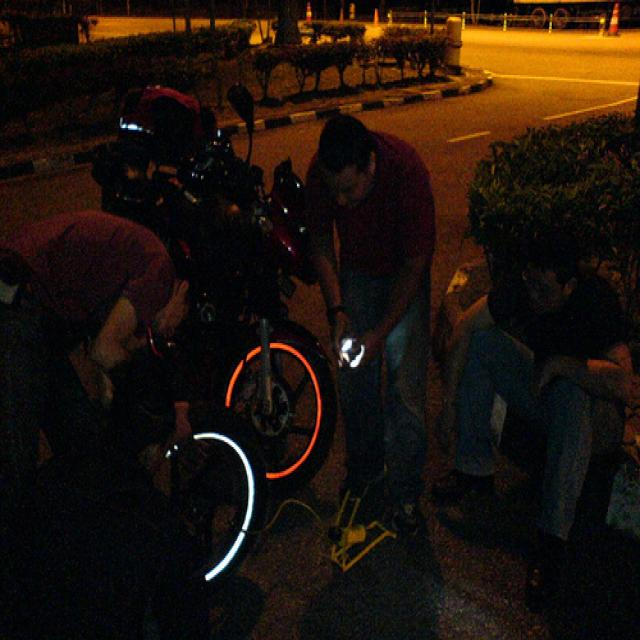Motorbike: (98, 54, 336, 484), (0, 408, 270, 640)
People: (462, 204, 640, 561), (311, 92, 445, 528), (21, 183, 216, 366)
